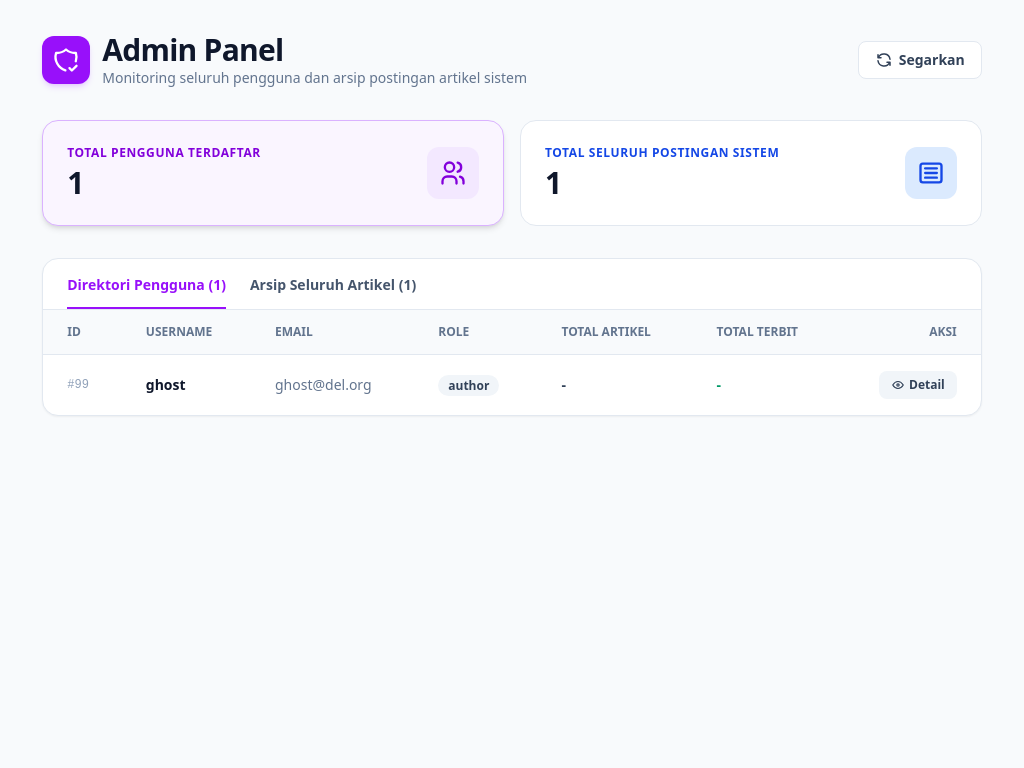
Test: AdminDashboard › handles empty or non-array API responses and null user/posts modal
Later steps or results of the test are not shown.
Expected: the text "ghost@del.org" is shown, [251,354,414,415]
Step 1. Click the button "Detail" → coordinates (918, 385), box [879,371,957,399]
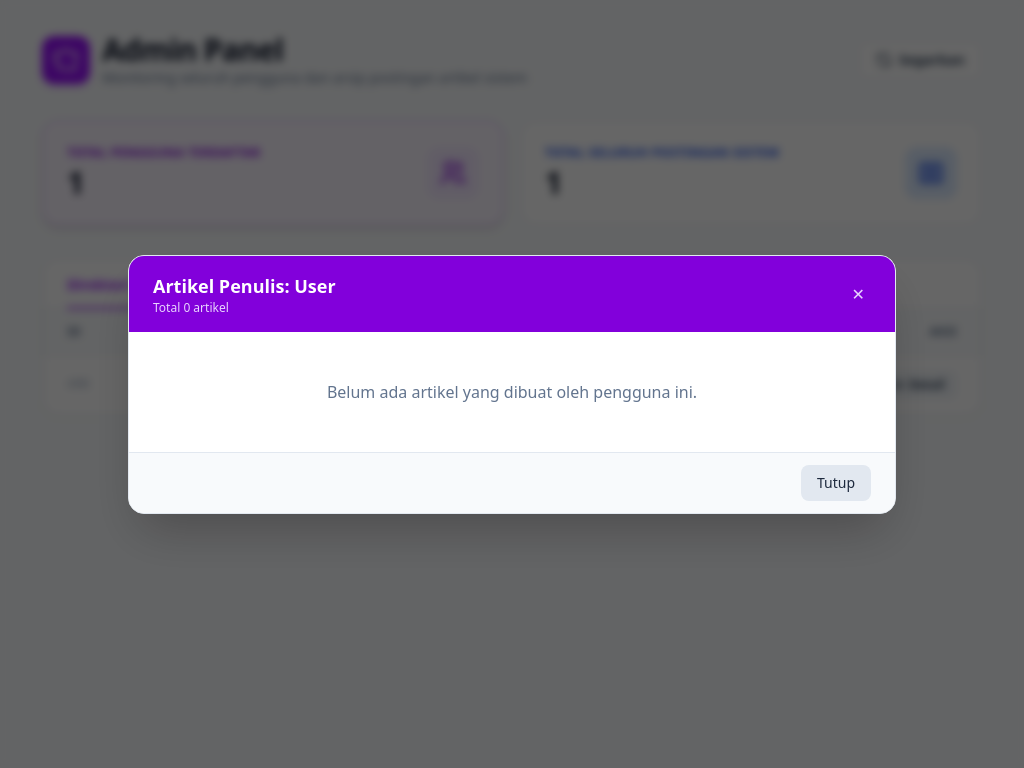
Expected: the heading "Artikel Penulis: User" is shown, [153,272,336,300]
Expected: the text "Total 0 artikel" is shown, [153,298,229,316]
